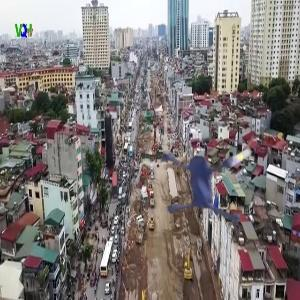drone: (144, 110, 287, 253)
